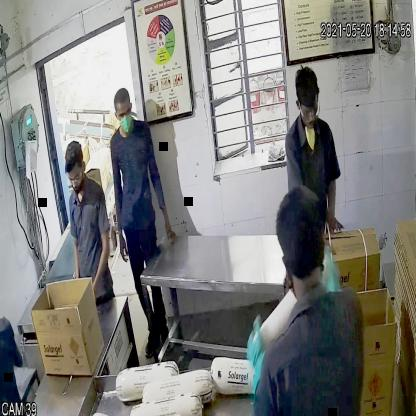goggles: (63, 168, 85, 186)
no_goggles: (114, 104, 133, 120)
